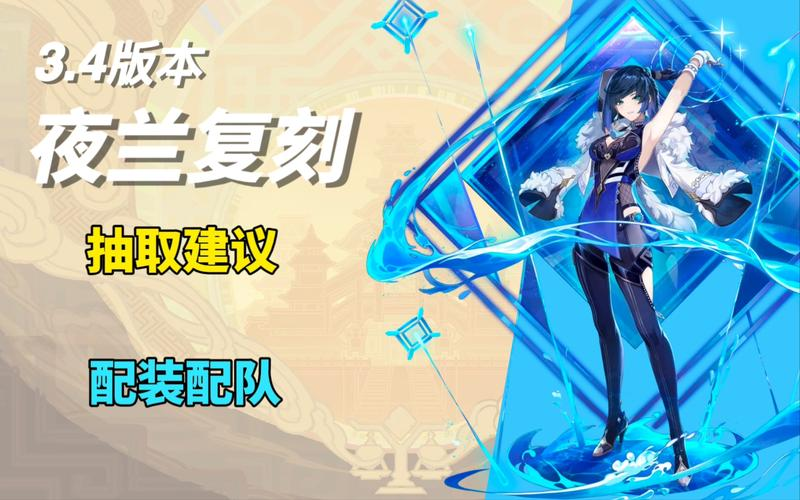夜兰: (542, 47, 726, 482)
